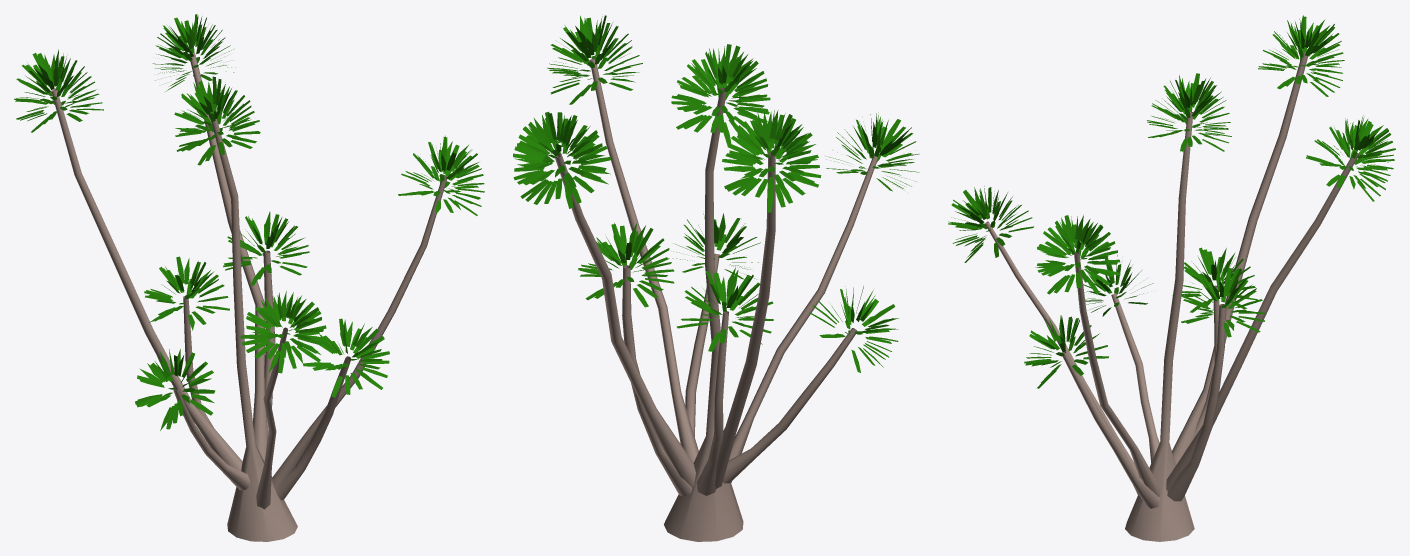
Rendered from YukaBush_01.fbx.
The picture shows the model from 3 angles, left to right: view 1: azimuth 30°, elevation 25°; view 2: azimuth 150°, elevation 25°; view 3: azimuth 270°, elevation 25°; orthographic projection. The views are drawn at different scales.
Visible parts, largest first — view 1: Foliage001; view 2: Foliage001; view 3: Foliage001.
Part boxes in pixels (<box>): Foliage001: <box>14,14,484,541</box>; Foliage001: <box>513,15,919,541</box>; Foliage001: <box>948,15,1395,541</box>.
Bounding box in the file's own units: 85.78 × 97.88 × 108.
